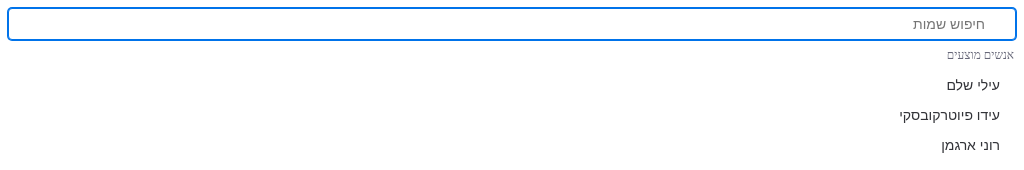
Test: PersonPicker — search matches first OR last name › "ש" surfaces "עילי שלם" (ש is only in the surname) and nothing else
The width and height of the screenshot is (1024, 170).
Type "ש" into the field named "חיפוש שם". click: (512, 24)
box: [8, 8, 1016, 40]
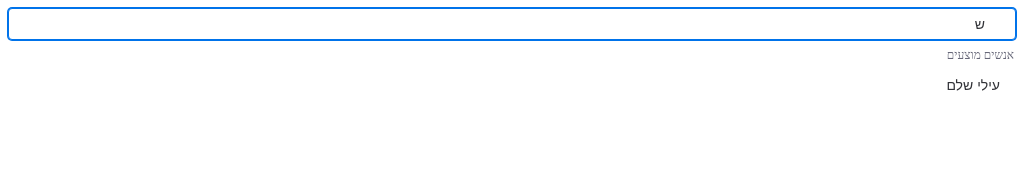
Expected: the text "עילי שלם" is shown, [946, 77, 1000, 93]
Expected: the button "עידו פיוטרקובסקי" is gone
Expected: the button "רוני ארגמן" is gone
